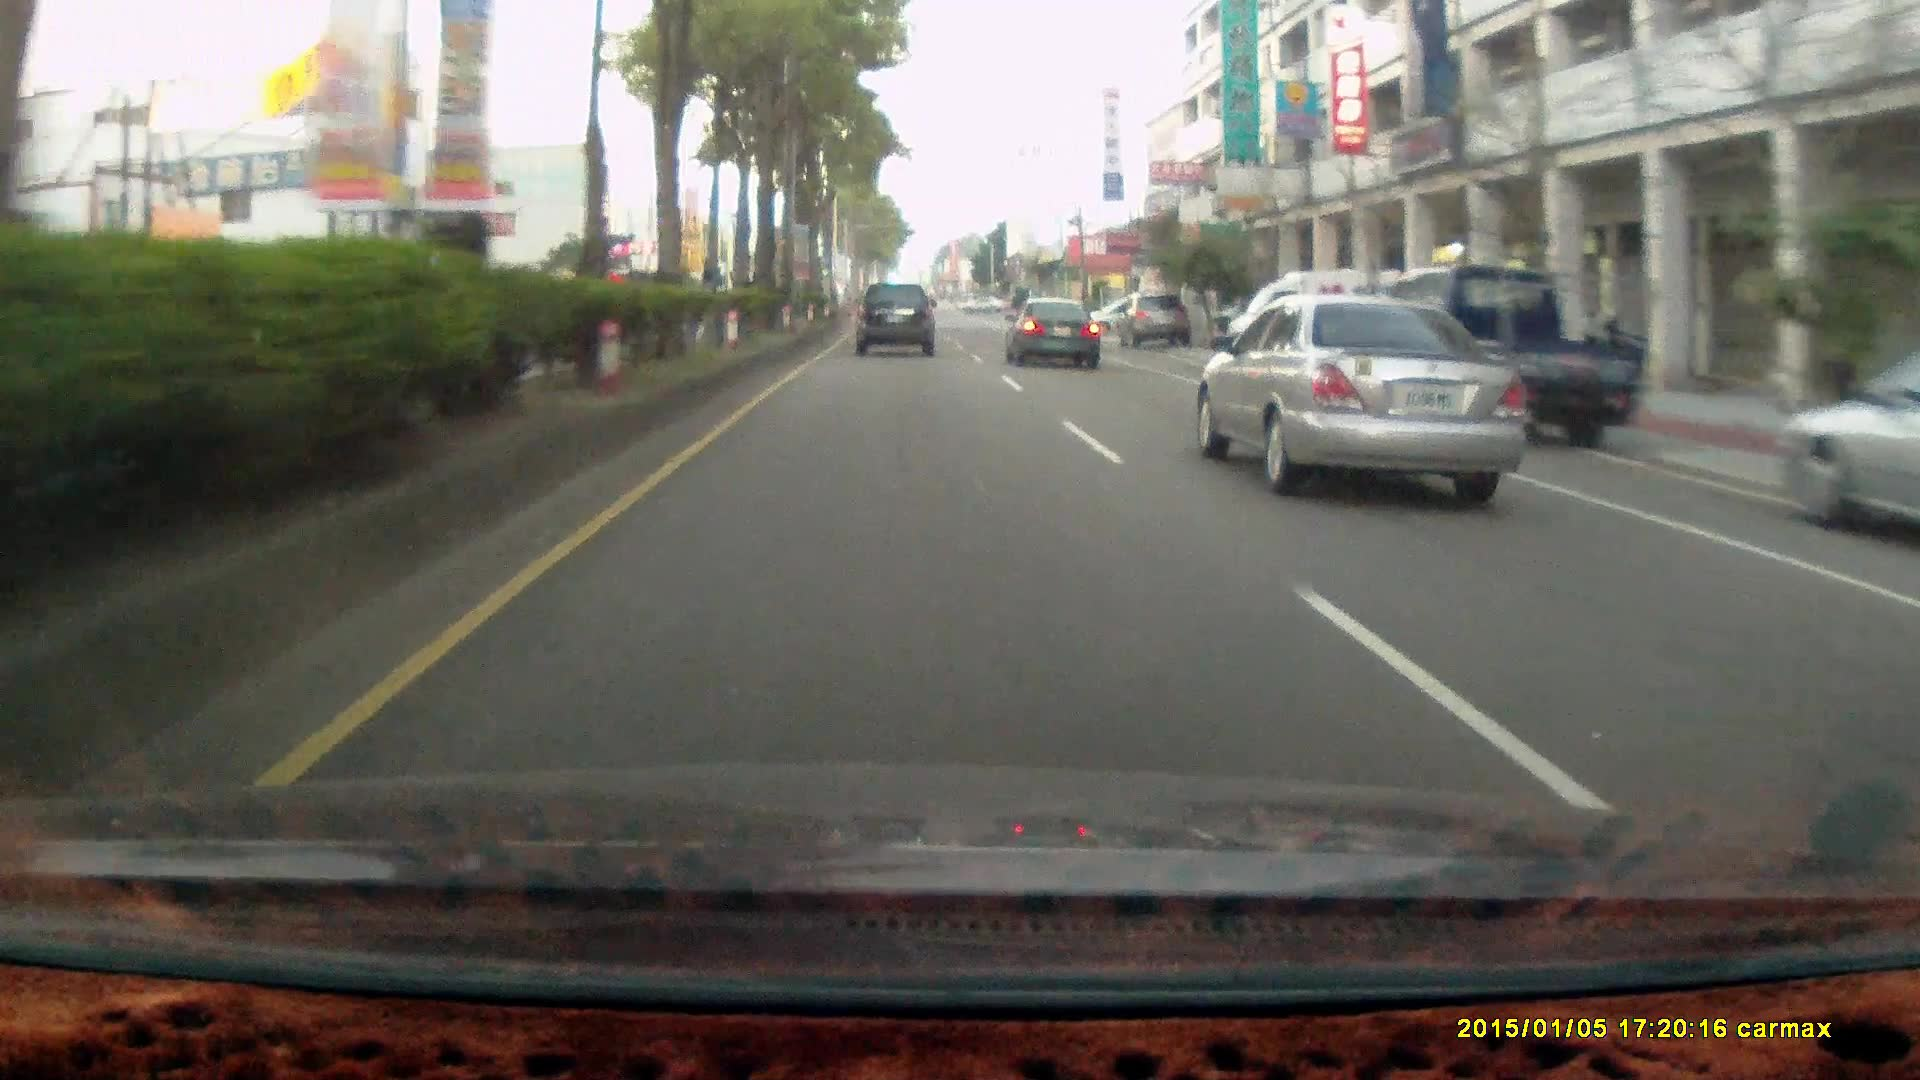vehicle: (1200, 289, 1528, 495), (1371, 266, 1636, 448), (1402, 264, 1663, 444), (1772, 363, 1920, 541), (1222, 268, 1414, 382), (1002, 298, 1105, 371), (1004, 295, 1098, 369), (855, 284, 942, 361), (853, 280, 934, 355), (1120, 291, 1192, 348)
